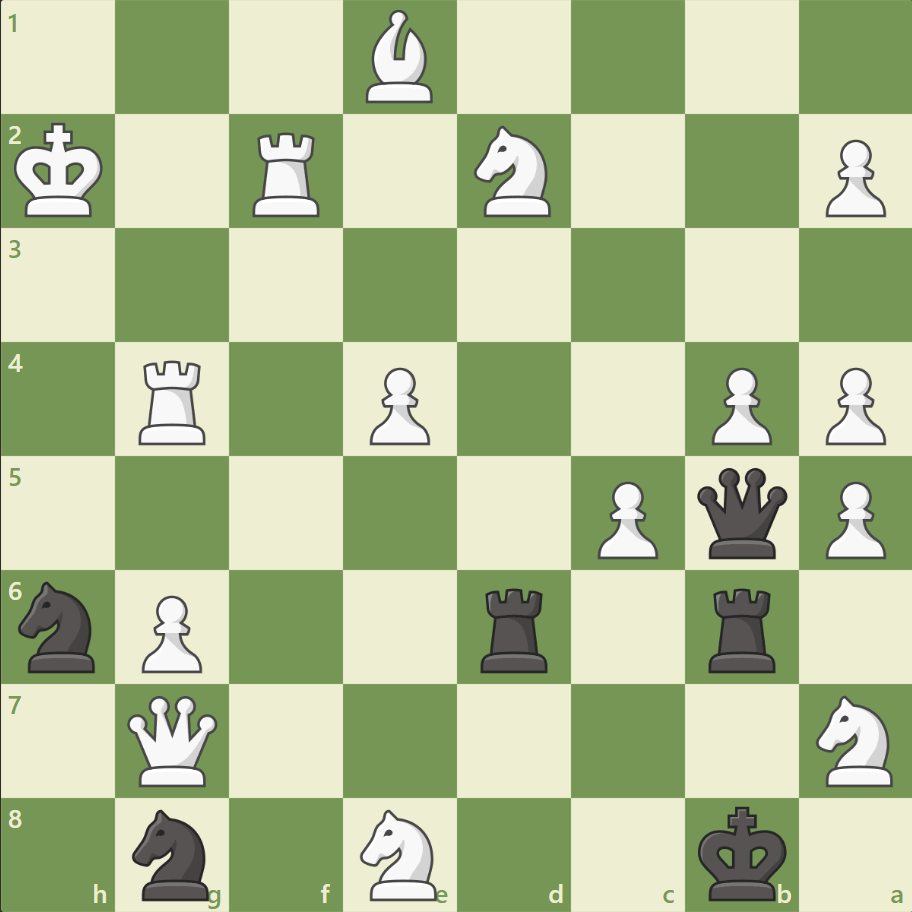B: (358, 6, 442, 109)
K: (11, 117, 111, 225)
N: (351, 802, 449, 904), (806, 688, 903, 791), (465, 121, 562, 223)
P: (133, 586, 208, 677), (701, 359, 776, 450), (815, 473, 889, 564), (588, 473, 662, 564), (815, 359, 889, 450), (361, 359, 435, 450), (815, 132, 889, 223)
Q: (124, 690, 223, 789)
R: (246, 125, 329, 222), (133, 352, 215, 449)
k: (692, 798, 792, 906)
n: (124, 802, 222, 904), (11, 575, 108, 677)
q: (691, 463, 790, 562)
r: (700, 579, 783, 676), (473, 579, 556, 676)
